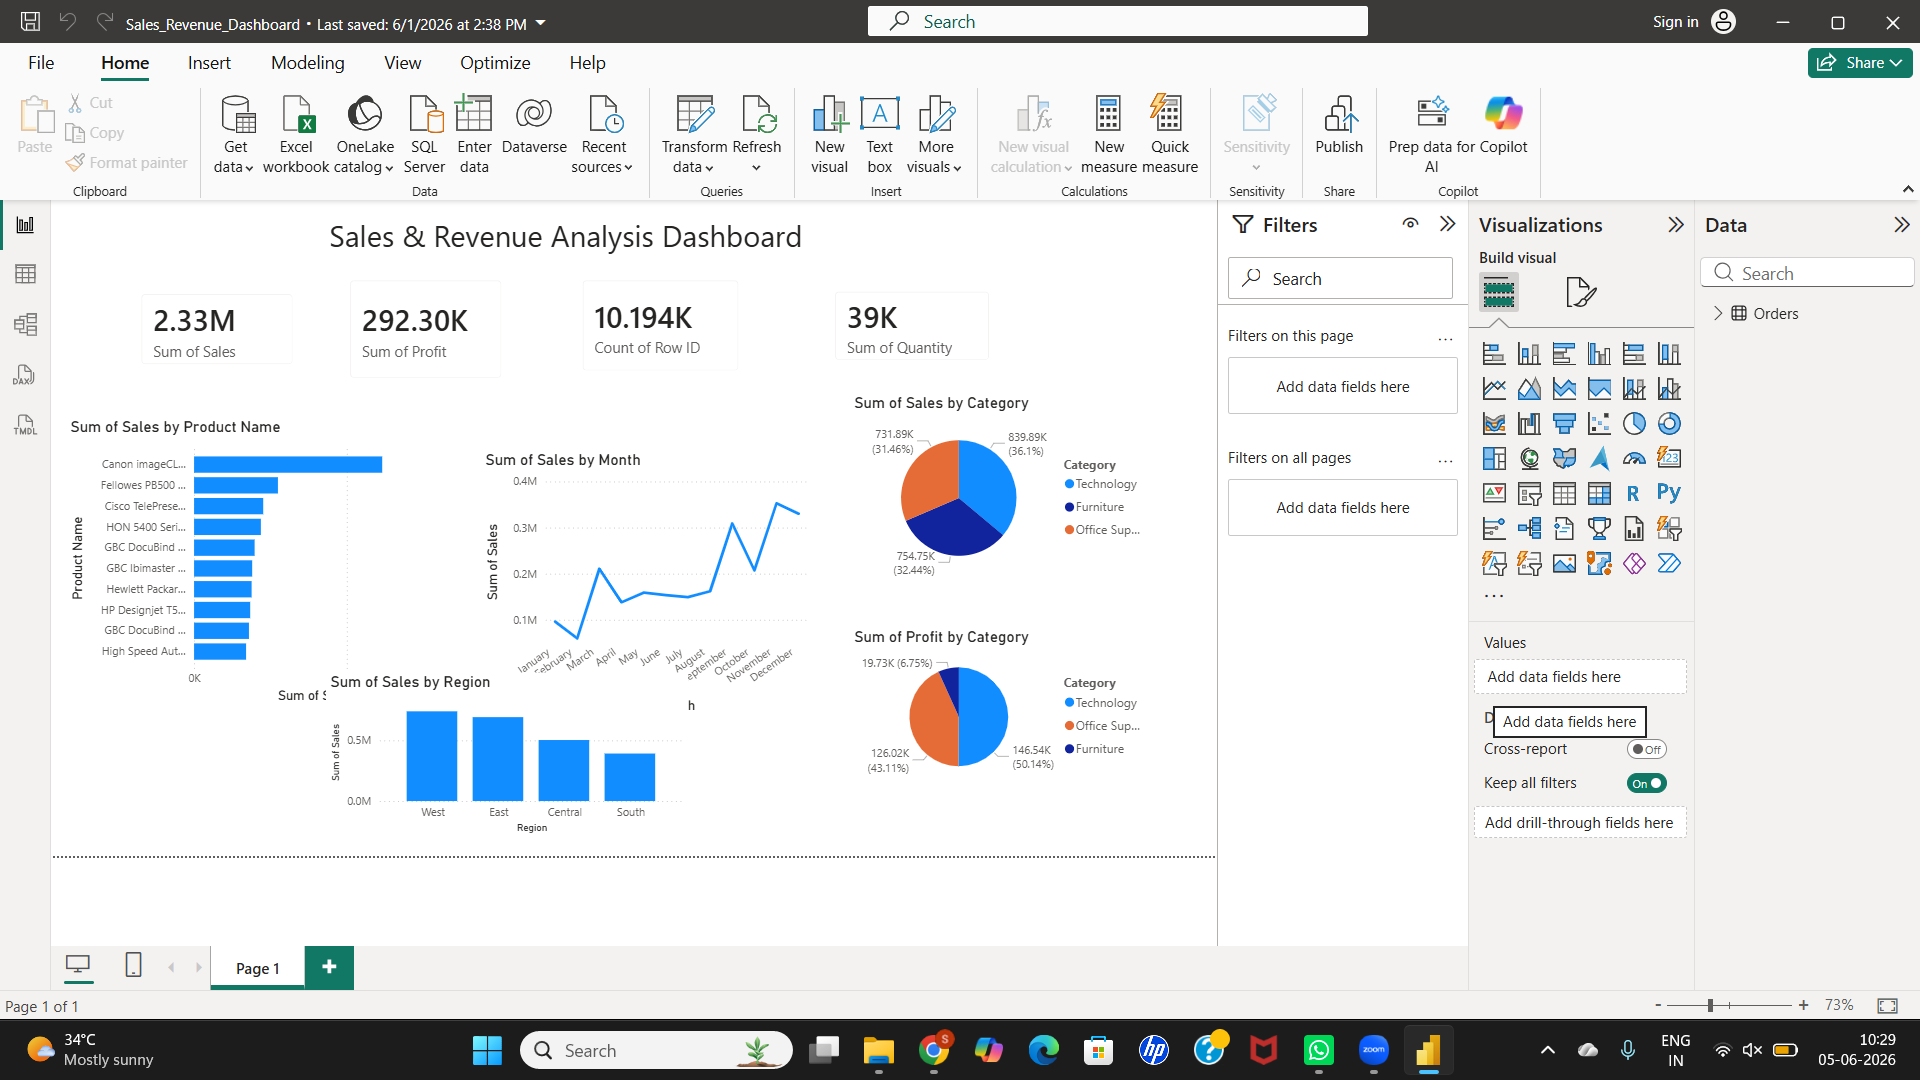

This screenshot's page, from the dashboard's own definition file:
{"tool":"powerbi","page":{"name":"Page 1","canvas":[1280,720],"ordinal":0},"visuals":[{"type":"cardVisual","fields":{"Data":["Sum(Orders.Sales)"]},"box":[82.3,86.4,200.3,111.1],"z":0},{"type":"cardVisual","fields":{"Data":["Sum(Orders.Profit)"]},"box":[311.5,71.4,200.3,141.3],"z":1000},{"type":"cardVisual","fields":{"Data":["Sum(Orders.Quantity)"]},"box":[843.9,83.7,203.1,109.8],"z":2000},{"type":"cardVisual","fields":{"Data":["CountNonNull(Orders.Row ID)"]},"box":[566.7,71.4,205.8,133.1],"z":3000},{"type":"lineChart","fields":{"Category":["Orders.Order Date.Variation.Date Hierarchy.Month"],"Y":["Sum(Orders.Sales)"]},"box":[472,274.4,363.6,293.7],"z":4000},{"type":"clusteredBarChart","fields":{"Category":["Orders.Product Name"],"Y":["Sum(Orders.Sales)"]},"box":[16.5,238.8,424,318.4],"z":5000},{"type":"pieChart","fields":{"Category":["Orders.Category"],"Y":["Sum(Orders.Sales)"]},"box":[876.8,212.7,338.9,208.6],"z":6000},{"type":"clusteredColumnChart","fields":{"Category":["Orders.Region"],"Y":["Sum(Orders.Sales)"]},"box":[301.9,518.7,397.9,181.1],"z":7000},{"type":"pieChart","fields":{"Category":["Orders.Category"],"Y":["Sum(Orders.Profit)"]},"box":[876.8,469.3,338.9,175.6],"z":8000},{"type":"textbox","box":[300.5,12.3,576.3,59],"z":8001}]}

Visuals, with their boxes on the page's 1280x720 design canvas (x1, y1, x2, y2). These are canvas units, not pixel positions in the 1920x1080 screenshot, which may show the page scaled, cropped or inside an application window:
cardVisual - Sum(Orders.Sales): Rect(82, 86, 283, 198)
cardVisual - Sum(Orders.Profit): Rect(312, 71, 512, 213)
cardVisual - Sum(Orders.Quantity): Rect(844, 84, 1047, 194)
cardVisual - CountNonNull(Orders.Row ID): Rect(567, 71, 772, 204)
lineChart - Orders.Order Date.Variation.Date Hierarchy.Month x Sum(Orders.Sales): Rect(472, 274, 836, 568)
clusteredBarChart - Orders.Product Name x Sum(Orders.Sales): Rect(16, 239, 440, 557)
pieChart - Orders.Category x Sum(Orders.Sales): Rect(877, 213, 1216, 421)
clusteredColumnChart - Orders.Region x Sum(Orders.Sales): Rect(302, 519, 700, 700)
pieChart - Orders.Category x Sum(Orders.Profit): Rect(877, 469, 1216, 645)
textbox: Rect(300, 12, 877, 71)
